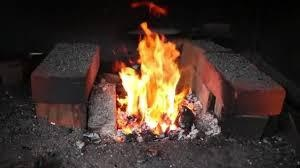fire: (113, 22, 191, 135)
